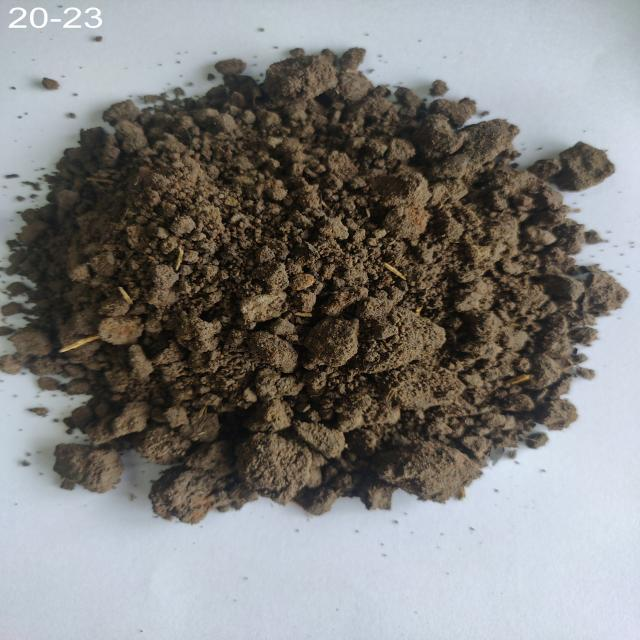soil: (148, 133, 525, 447)
